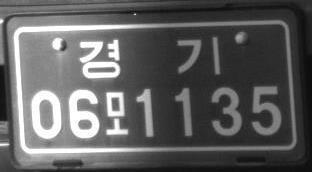0: (30, 88, 63, 140)
1: (171, 86, 199, 136), (134, 88, 160, 139)
3: (210, 86, 243, 137)
5: (249, 84, 282, 136)
6: (67, 88, 101, 140)
경기_D: (78, 36, 221, 79)
모: (104, 90, 130, 136)
